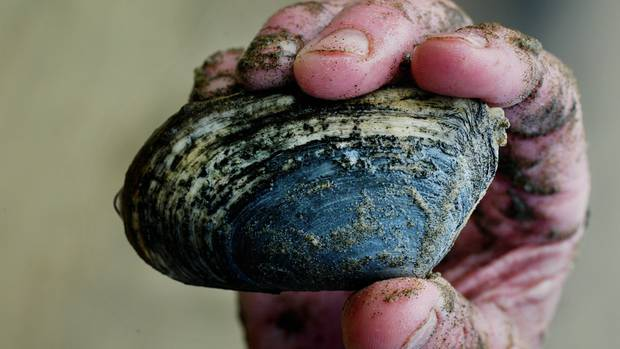tuatua: (111, 80, 509, 293)
